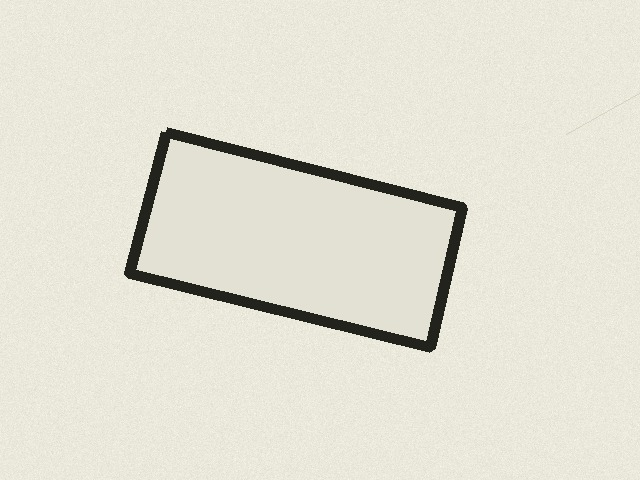parking_area: (129, 132, 462, 347)
